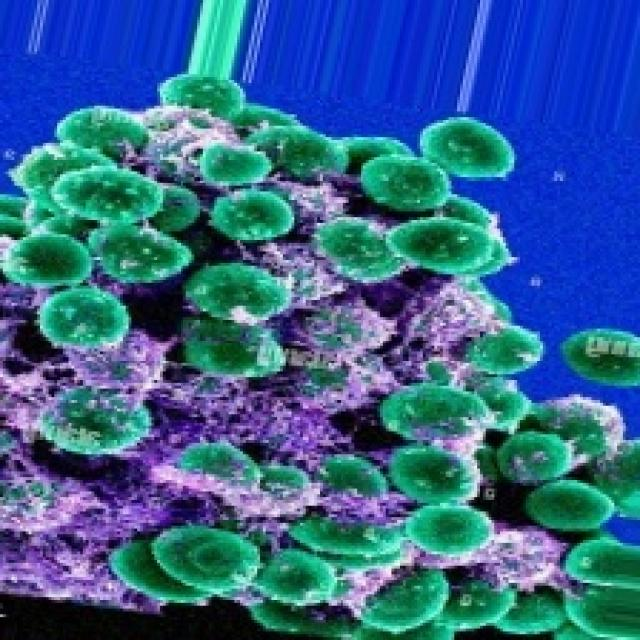Spherical_bacteria: (0, 69, 637, 637)
